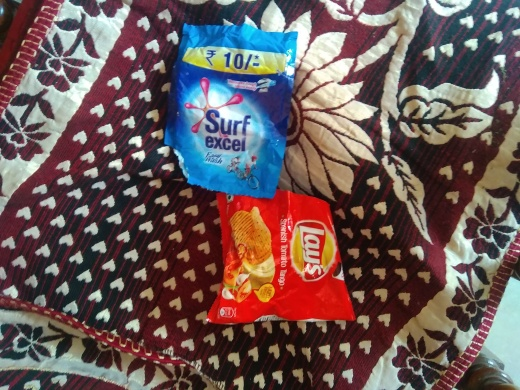lays: (207, 189, 352, 333)
surf: (165, 17, 300, 201)
